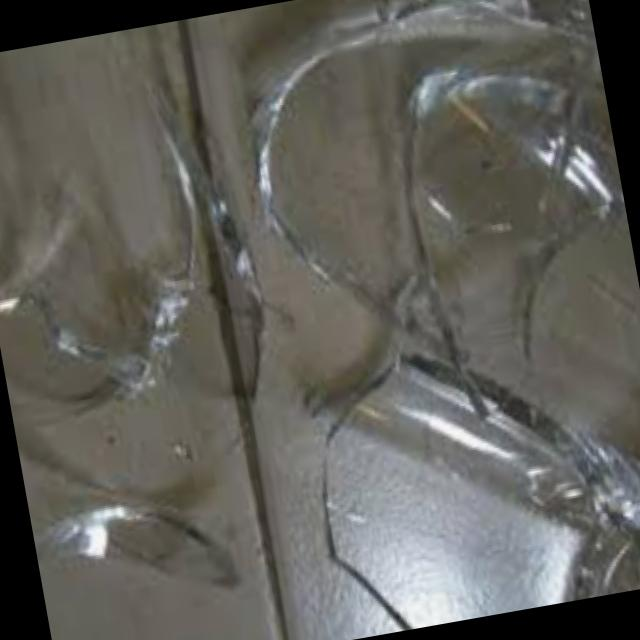PecahanKaca: (0, 0, 640, 640), (0, 25, 225, 427)
